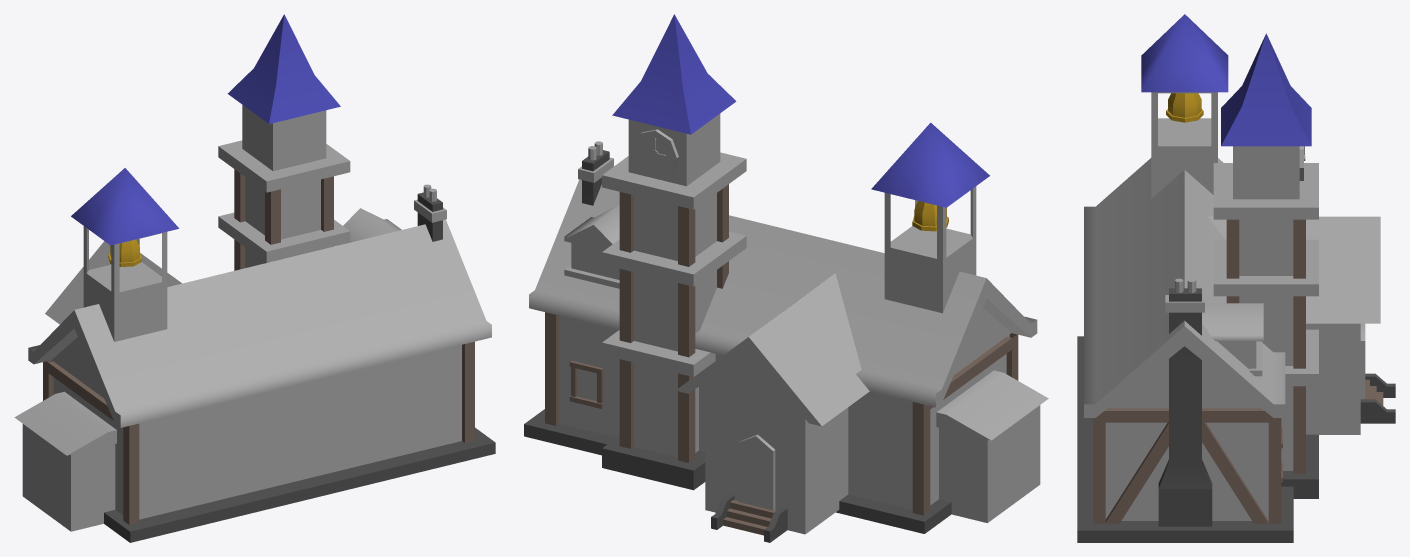
The model's file is TownHall01.fbx.
The picture shows the model from 3 angles, left to right: view 1: azimuth 30°, elevation 25°; view 2: azimuth 150°, elevation 25°; view 3: azimuth 270°, elevation 25°; orthographic projection. The views are drawn at different scales.
Visible parts, largest first — view 1: pCube201; view 2: pCube201; view 3: pCube201.
Boxes of the visible parts, x1=… form: pCube201: x1=14, y1=14, x2=495, y2=542; pCube201: x1=524, y1=14, x2=1048, y2=542; pCube201: x1=1077, y1=14, x2=1395, y2=542.
Size of the model in its own units: 0.0762 by 0.0739 by 0.0476.
